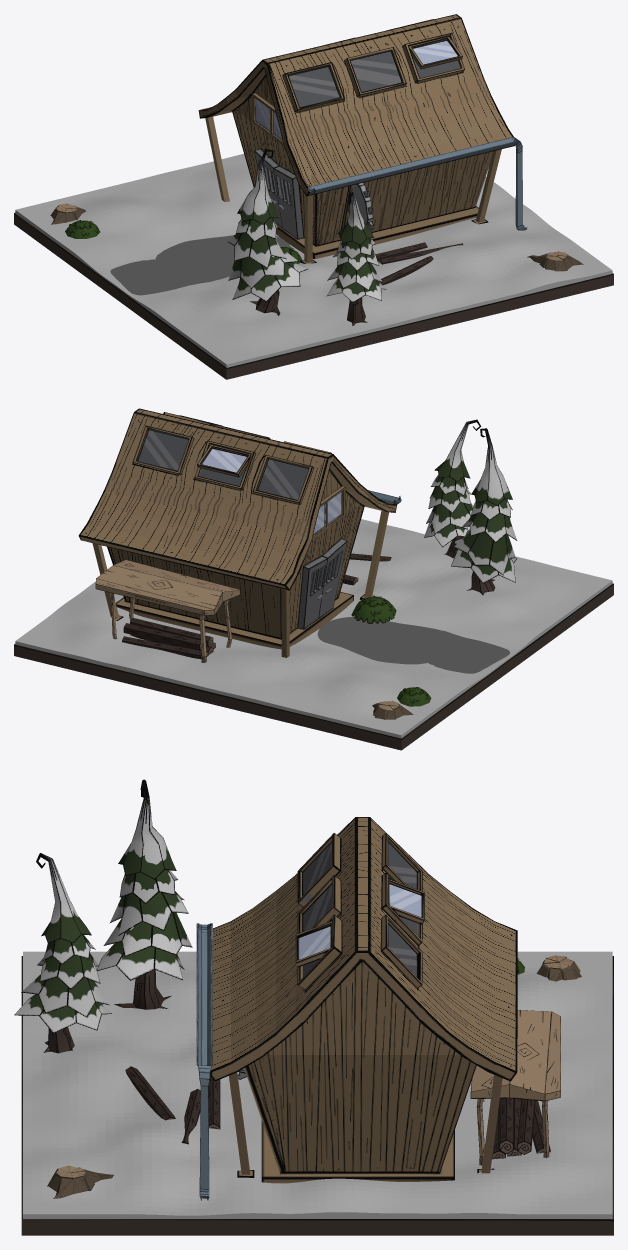
Rendered from Village_scierie.fbx.
The picture shows the model from 3 angles, top to bottom: view 1: azimuth 30°, elevation 25°; view 2: azimuth 150°, elevation 25°; view 3: azimuth 270°, elevation 25°; orthographic projection. The views are drawn at different scales.
Parts seen in each view (by area): view 1: scierie_bat, neige15, sol6, sapin14, chemin, sapin15, Rail_rondins, scierie_porteR, scierie_porteL, souche1, Buisson16, souche; view 2: scierie_bat, neige15, sol6, chemin, sapin14, Abris_bois1, sapin15, scierie_porteL, scierie_porteR, Buisson15, Rondins8, Rondins7 (+3 smaller); view 3: scierie_bat, neige15, sol6, sapin14, sapin15, Abris_bois1, Rail_rondins, souche1, Rondins3, souche, Rondins8, Rondins9 (+2 smaller).
Part boxes in pixels (x1,y1,x2,y2): scierie_bat: [198, 14, 515, 263]; neige15: [15, 153, 612, 367]; sol6: [14, 213, 613, 379]; sapin14: [228, 149, 307, 315]; chemin: [110, 235, 290, 295]; sapin15: [326, 191, 386, 325]; Rail_rondins: [307, 137, 527, 230]; scierie_porteR: [274, 166, 303, 239]; scierie_porteL: [254, 148, 282, 228]; souche1: [527, 251, 583, 271]; Buisson16: [65, 220, 100, 238]; souche: [50, 203, 85, 224]; scierie_bat: [78, 408, 396, 657]; neige15: [15, 519, 612, 738]; sol6: [14, 583, 613, 750]; chemin: [317, 617, 509, 673]; sapin14: [451, 428, 517, 595]; Abris_bois1: [95, 560, 240, 662]; sapin15: [424, 419, 481, 558]; scierie_porteL: [297, 556, 327, 629]; scierie_porteR: [318, 538, 347, 618]; Buisson15: [351, 596, 396, 623]; Rondins8: [123, 623, 201, 650]; Rondins7: [122, 636, 208, 659]; scierie_bat: [210, 817, 517, 1183]; neige15: [23, 951, 612, 1218]; sol6: [21, 956, 613, 1235]; sapin14: [97, 779, 192, 1009]; sapin15: [14, 853, 111, 1053]; Abris_bois1: [470, 1010, 560, 1165]; Rail_rondins: [196, 923, 212, 1200]; souche1: [47, 1165, 113, 1198]; Rondins3: [125, 1066, 175, 1120]; souche: [536, 955, 581, 981]; Rondins8: [517, 1099, 535, 1154]; Rondins9: [499, 1098, 513, 1153].
Bounding box in the file's own units: 1412 × 660 × 1358.
